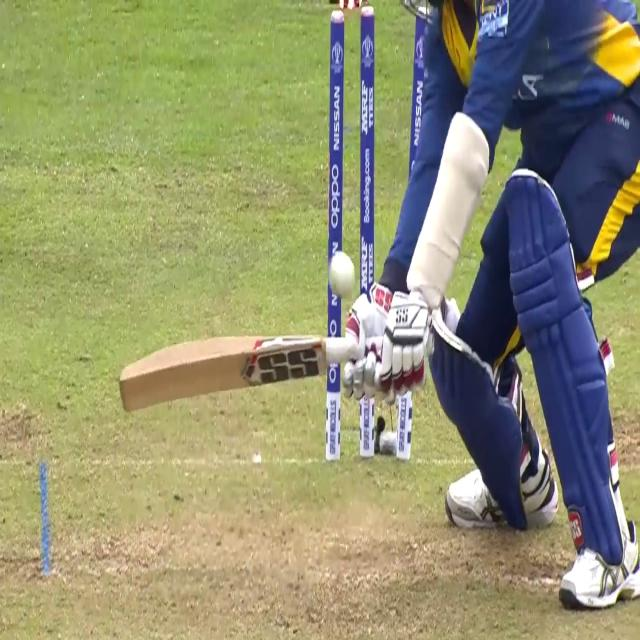ball: (328, 248, 358, 304)
